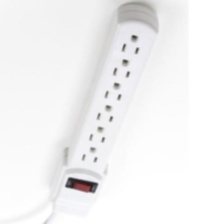three_eye_plug: (44, 0, 162, 219)
